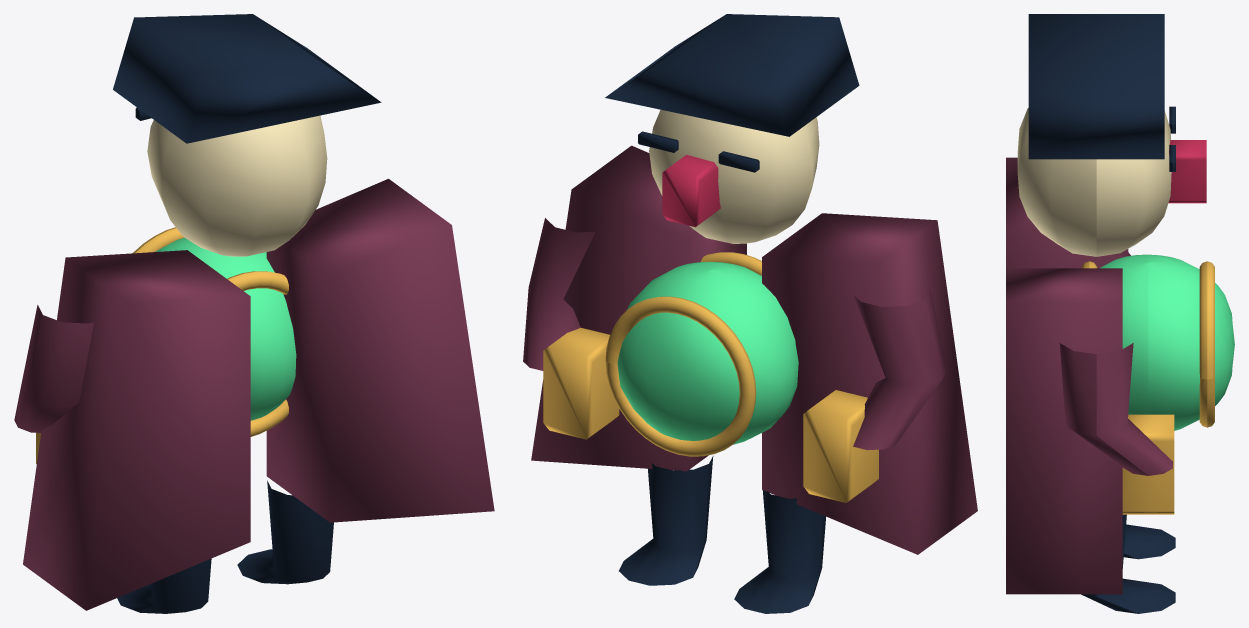
The model's file is hero_alcoholic.glb.
The picture shows the model from 3 angles, left to right: view 1: azimuth 30°, elevation 25°; view 2: azimuth 150°, elevation 25°; view 3: azimuth 270°, elevation 25°; orthographic projection. The views are drawn at different scales.
Parts seen in each view (by area): view 1: SplitCoat (×2), CrookedCap, Skull, Boot (×2), GlassCore, Sleeve, GiltOrbRim; view 2: SplitCoat (×2), GlassCore, CrookedCap, Sleeve (×2), Boot (×2), FlaskPouch (×2), Skull, GiltOrbRim (×2), Nose; view 3: SplitCoat (×2), CrookedCap, GlassCore, Skull, Sleeve, Boot (×2), FlaskPouch, GiltOrbRim, Nose.
Boxes of the visible parts, box(x1,y1,x2,y2) form: SplitCoat (×2): box(23, 178, 494, 610); CrookedCap: box(113, 14, 381, 143); Skull: box(147, 115, 327, 256); Boot (×2): box(117, 480, 333, 613); GlassCore: box(155, 237, 296, 420); Sleeve: box(14, 305, 93, 432); GiltOrbRim: box(227, 271, 288, 436); SplitCoat (×2): box(531, 145, 977, 554); GlassCore: box(617, 261, 798, 444); CrookedCap: box(605, 14, 859, 136); Sleeve (×2): box(523, 218, 946, 450); Boot (×2): box(619, 456, 825, 613); FlaskPouch (×2): box(543, 328, 878, 502); Skull: box(649, 110, 819, 243); GiltOrbRim (×2): box(605, 252, 761, 456); Nose: box(662, 155, 720, 227); SplitCoat (×2): box(1006, 157, 1122, 594); CrookedCap: box(1028, 14, 1164, 159); GlassCore: box(1099, 254, 1234, 430); Skull: box(1017, 108, 1171, 256); Sleeve: box(1059, 343, 1172, 475); Boot (×2): box(1081, 514, 1175, 613); FlaskPouch: box(1122, 414, 1174, 514); GiltOrbRim: box(1199, 261, 1214, 427); Nose: box(1168, 140, 1206, 203).
Size of the model in its own units: 1.31 by 1.65 by 0.6521.
